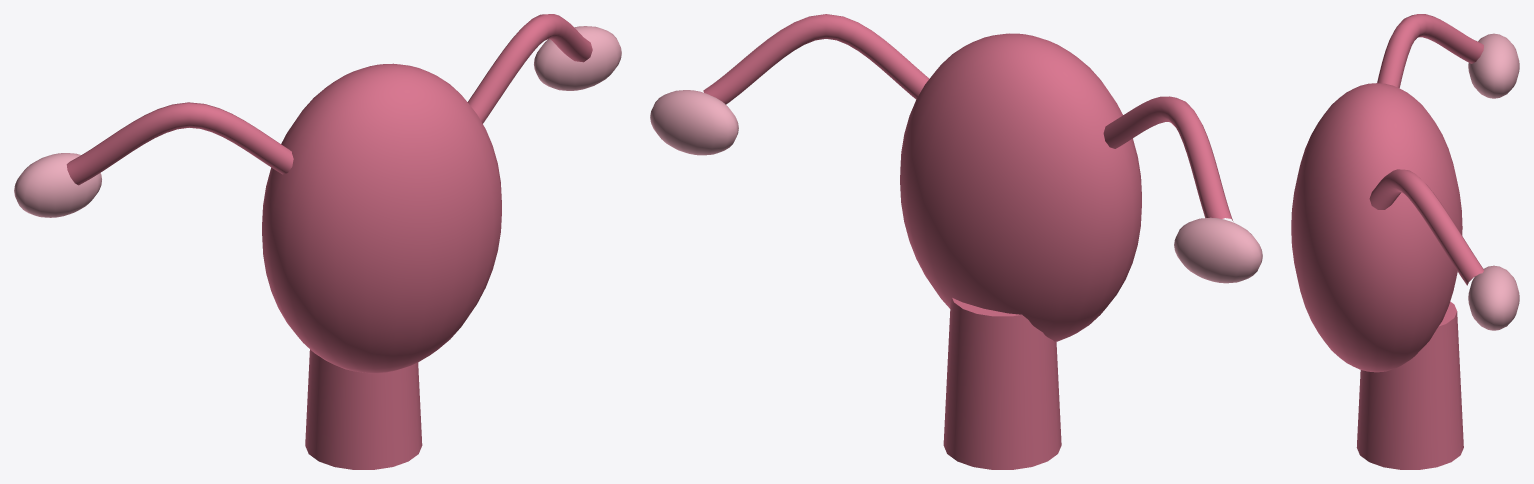
File: 10_reproductive.glb
3 renders of one model, left to right at view 1: azimuth 30°, elevation 25°; view 2: azimuth 150°, elevation 25°; view 3: azimuth 270°, elevation 25°, orthographic. The views are drawn at different scales.
Parts seen in each view (by area): view 1: uterus_fundus_and_body, cervix_and_canal, left_fallopian_tube_salpinx, right_fallopian_tube_salpinx, left_ovary_oophoron, right_ovary_oophoron; view 2: uterus_fundus_and_body, cervix_and_canal, right_fallopian_tube_salpinx, left_fallopian_tube_salpinx, left_ovary_oophoron, right_ovary_oophoron; view 3: uterus_fundus_and_body, cervix_and_canal, right_fallopian_tube_salpinx, left_fallopian_tube_salpinx, right_ovary_oophoron, left_ovary_oophoron.
Part boxes in pixels (<box>): uterus_fundus_and_body: <box>262,63,501,373</box>; cervix_and_canal: <box>305,349,422,469</box>; left_fallopian_tube_salpinx: <box>66,102,293,185</box>; right_fallopian_tube_salpinx: <box>467,14,592,123</box>; left_ovary_oophoron: <box>14,153,101,217</box>; right_ovary_oophoron: <box>534,26,621,90</box>; uterus_fundus_and_body: <box>900,33,1141,341</box>; cervix_and_canal: <box>943,298,1061,469</box>; right_fallopian_tube_salpinx: <box>703,14,929,104</box>; left_fallopian_tube_salpinx: <box>1103,96,1233,221</box>; left_ovary_oophoron: <box>1174,217,1262,283</box>; right_ovary_oophoron: <box>650,90,738,155</box>; uterus_fundus_and_body: <box>1291,83,1462,372</box>; cervix_and_canal: <box>1356,301,1463,469</box>; right_fallopian_tube_salpinx: <box>1369,169,1483,285</box>; left_fallopian_tube_salpinx: <box>1377,14,1483,88</box>; right_ovary_oophoron: <box>1468,265,1519,330</box>; left_ovary_oophoron: <box>1468,33,1519,98</box>.
Size of the model in its own units: 0.1904 by 0.1173 by 0.0683.
